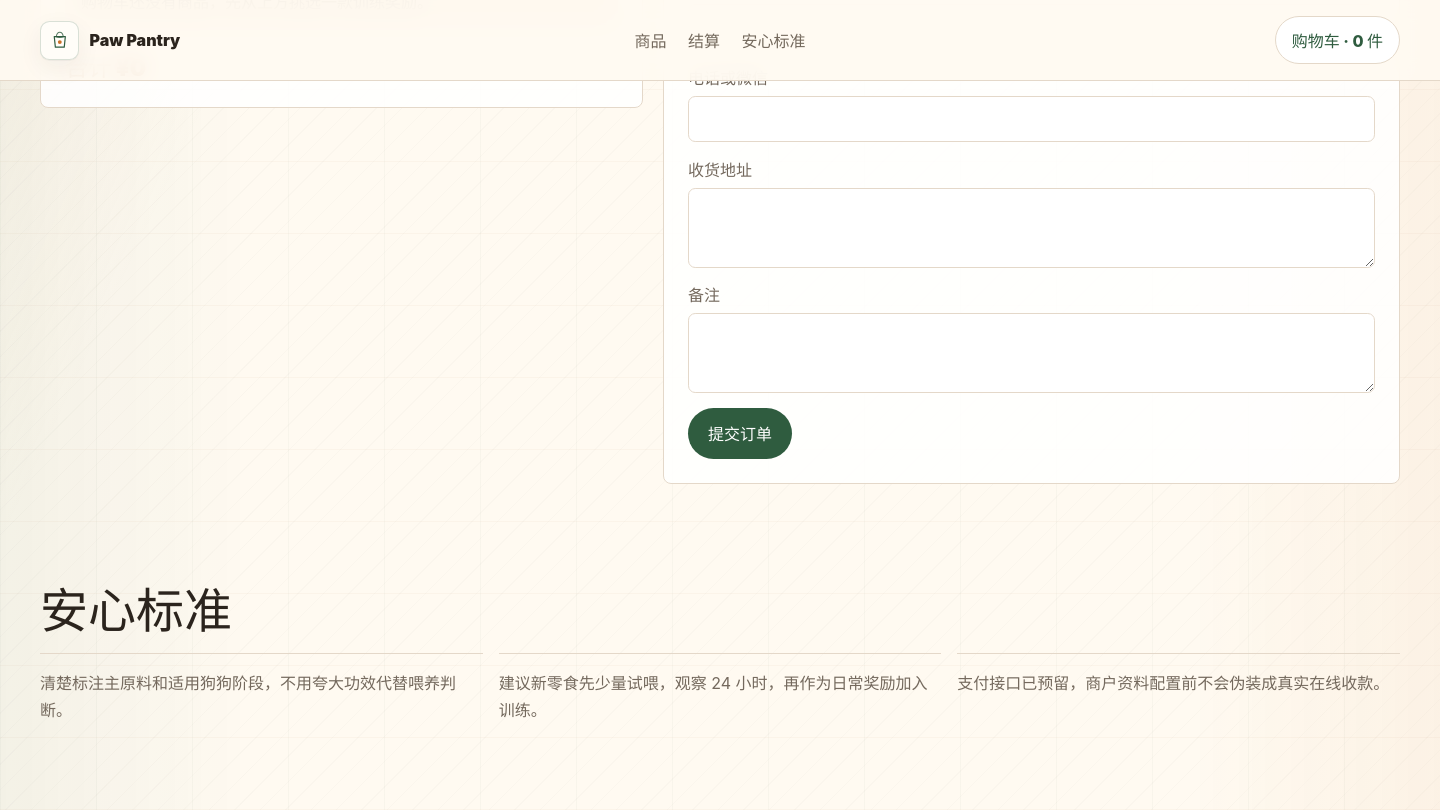
Test case: Paw Pantry storefront › validates checkout fields before order submission
(page scrolled)
Click the button "提交订单".
click(740, 433)  # box [688,408,792,459]
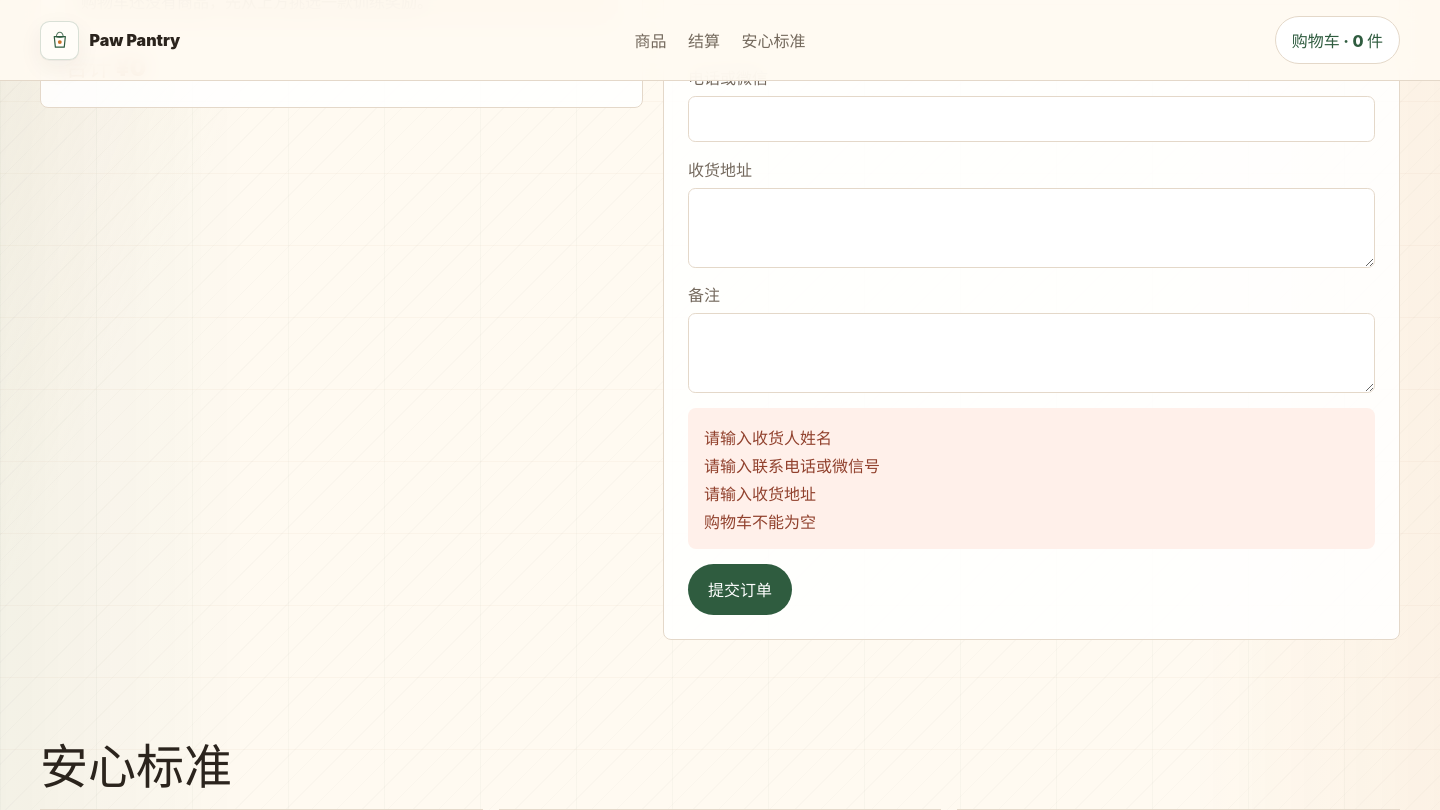
expect the text "请输入收货人姓名" is shown: met, box [704,428,832,448]
expect the text "购物车不能为空" is shown: met, box [704,512,816,532]
